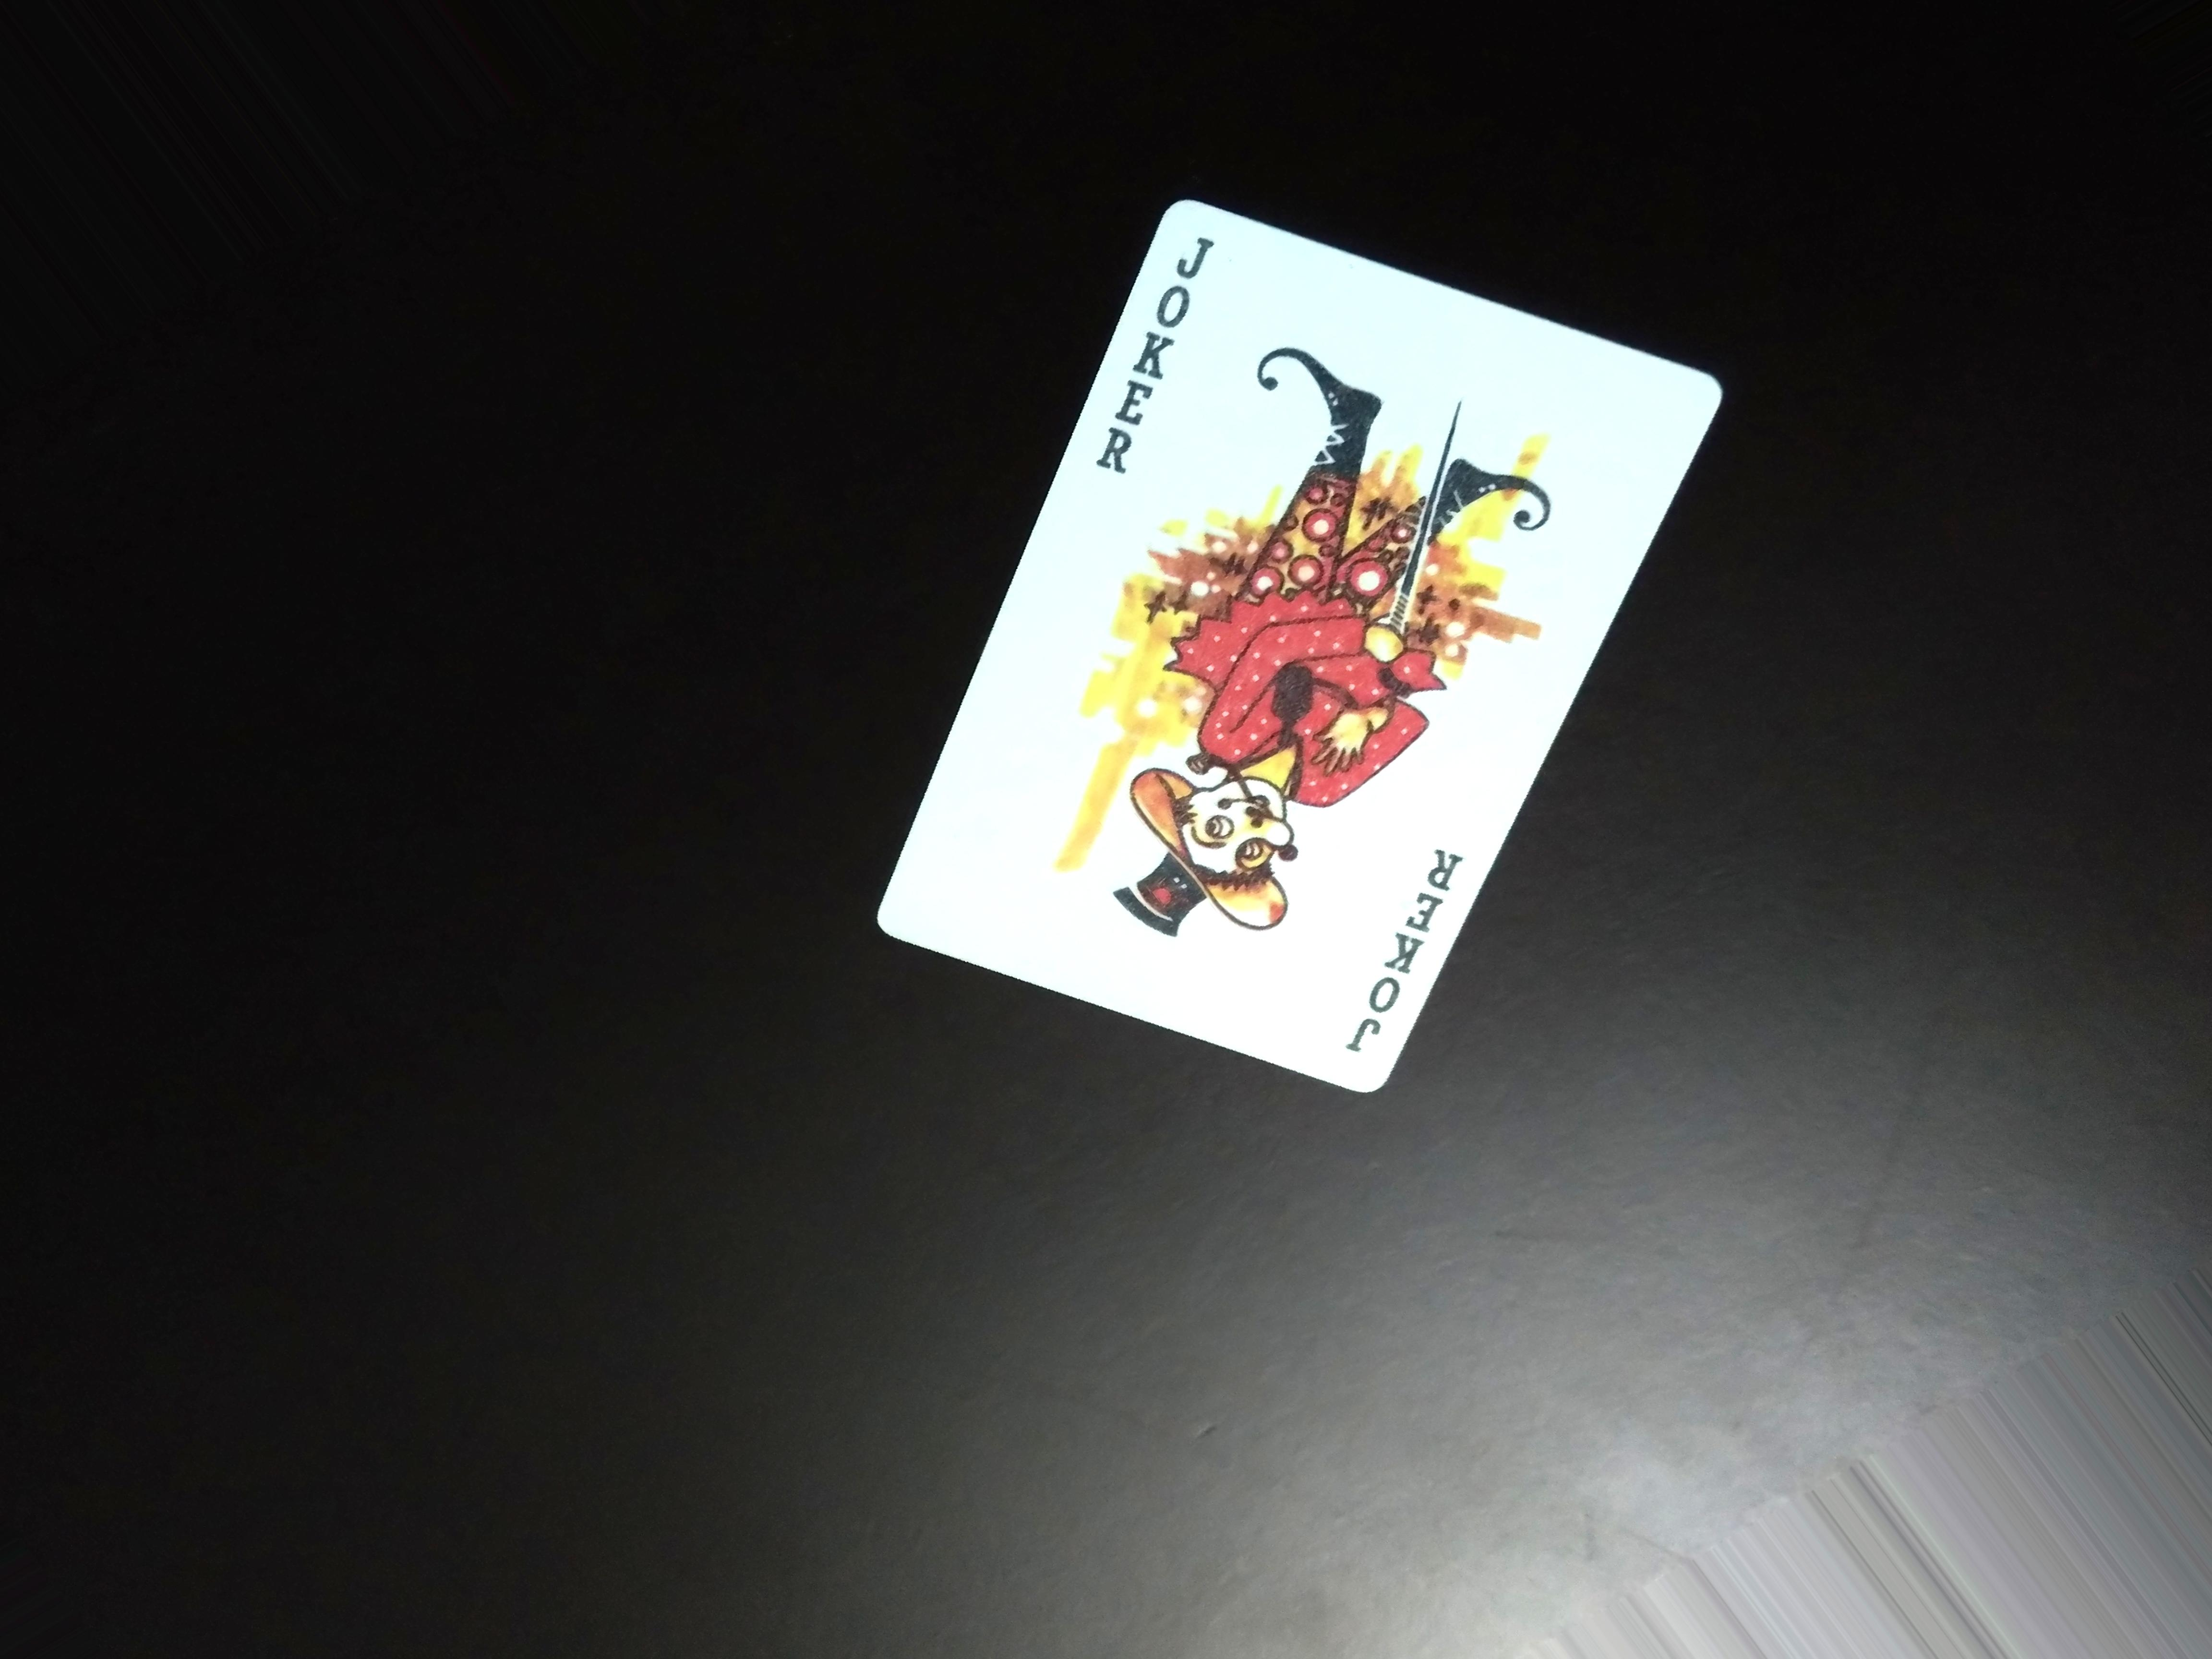JOKER: (1085, 221, 1216, 483)
